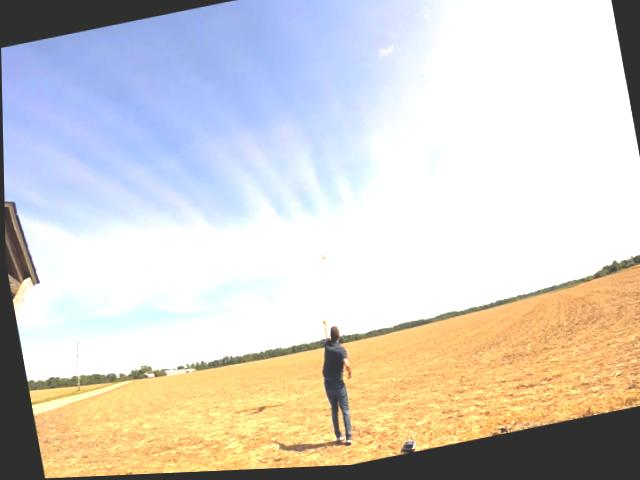plane: (292, 245, 345, 267)
